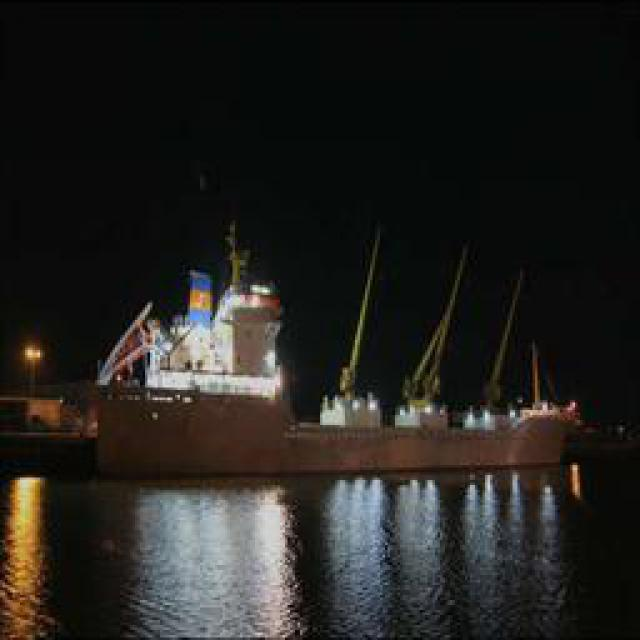Ship: (81, 210, 601, 495)
